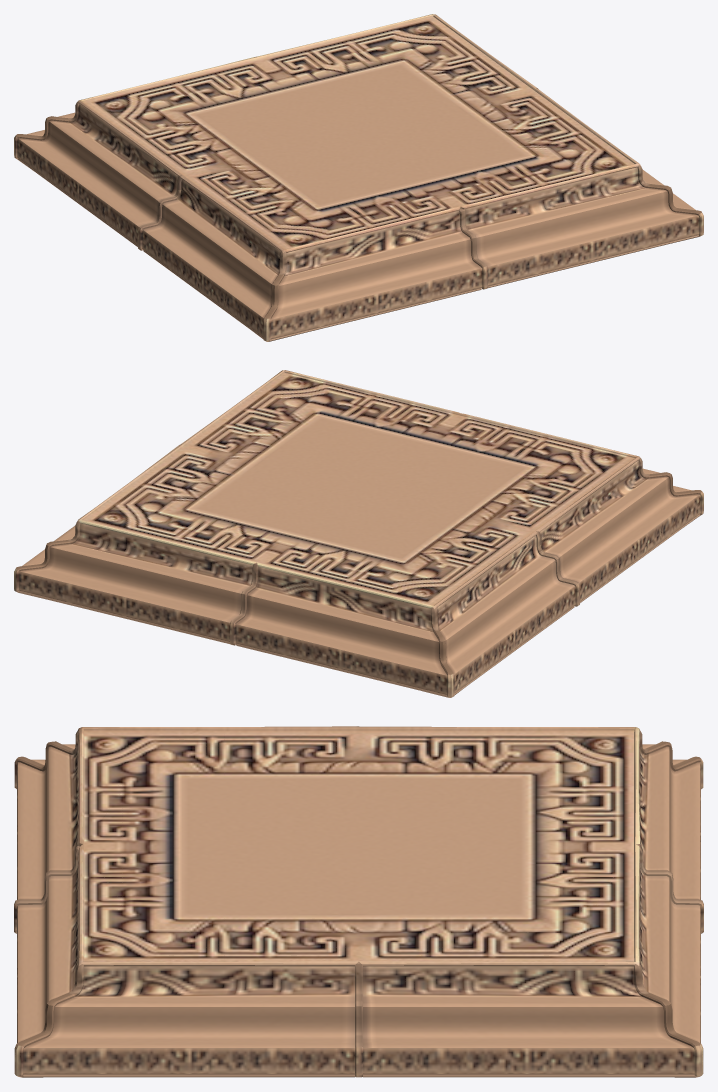
3 renders of one model, top to bottom at view 1: azimuth 30°, elevation 25°; view 2: azimuth 150°, elevation 25°; view 3: azimuth 270°, elevation 25°, orthographic. The views are drawn at different scales.
Visible parts, largest first — view 1: Stand3; view 2: Stand3; view 3: Stand3.
Part boxes in pixels (bbox=[...]): Stand3: bbox=[14, 14, 703, 341]; Stand3: bbox=[14, 370, 703, 697]; Stand3: bbox=[14, 726, 703, 1077].
Bounding box in the file's own units: 22.2 × 3.19 × 22.2.
1 material, 1 textured.
